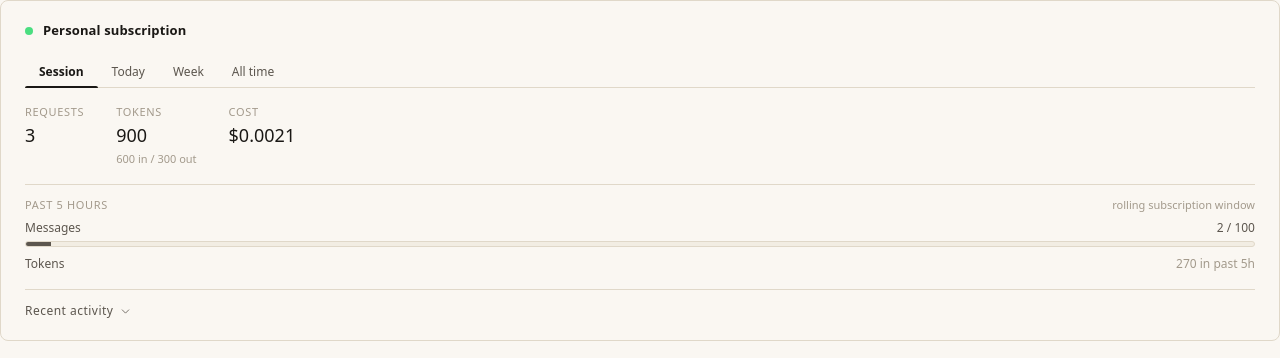
Test: PersonalUsageTile — with key configured › switches to All time tab and shows all-time stats
Click the tab "All time" at (253,72), box left=218, top=56, right=288, bottom=86
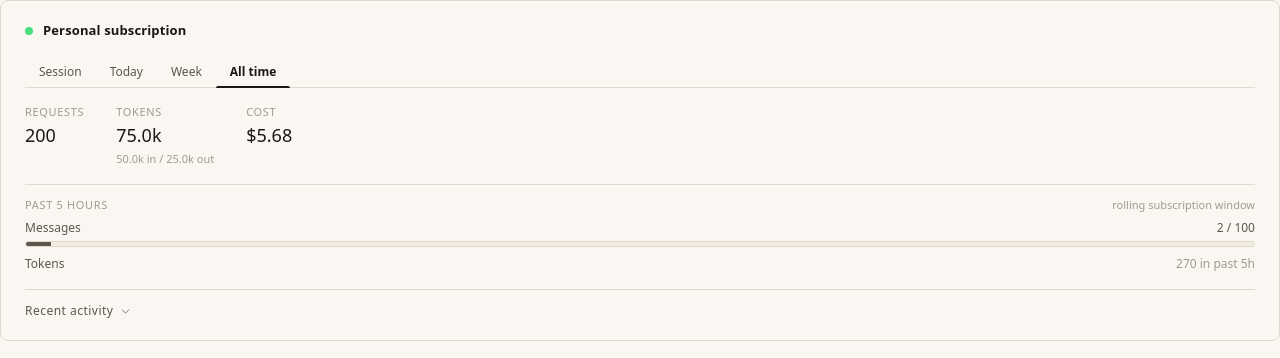
Expected: the text "$5.68" is shown, left=246, top=122, right=292, bottom=149
Expected: the text "200" is shown, left=25, top=123, right=56, bottom=147
